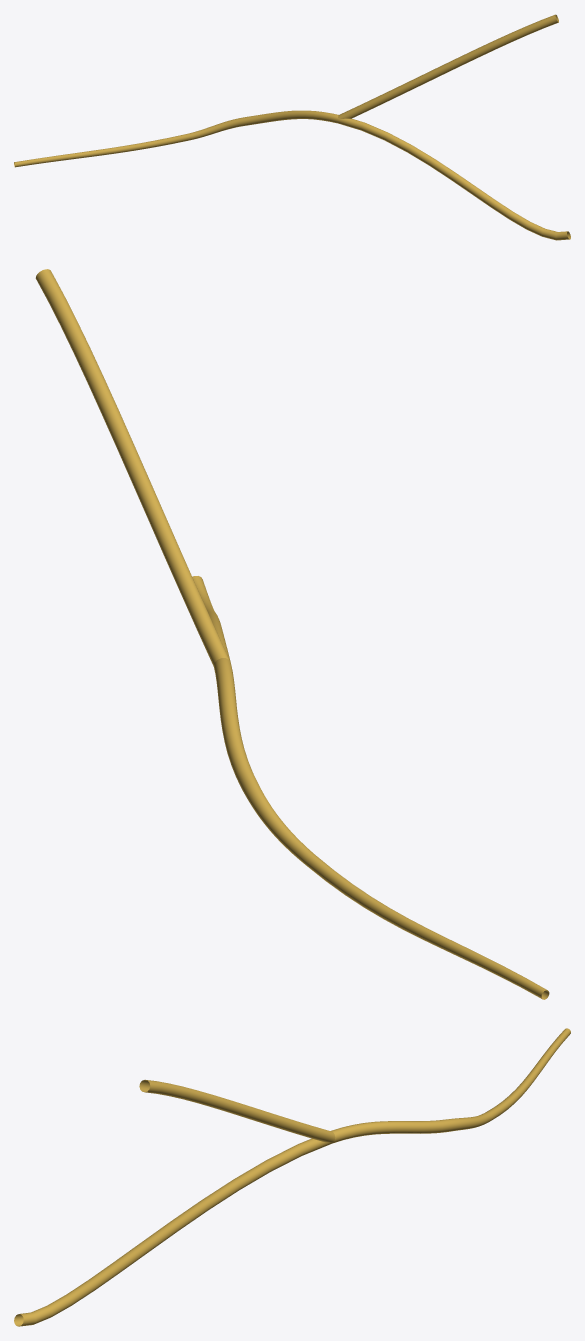
3 renders of one model, top to bottom at view 1: azimuth 30°, elevation 25°; view 2: azimuth 150°, elevation 25°; view 3: azimuth 270°, elevation 25°, orthographic. The views are drawn at different scales.
Visible parts, largest first — view 1: 右侧梨状肌神经; view 2: 右侧梨状肌神经; view 3: 右侧梨状肌神经.
Boxes of the visible parts, x1,y1,x2,y2 form: 右侧梨状肌神经: [14, 14, 570, 240]; 右侧梨状肌神经: [35, 269, 549, 999]; 右侧梨状肌神经: [14, 1028, 570, 1326].
Bounding box in the file's own units: 0.0775 × 0.0346 × 0.0646.
